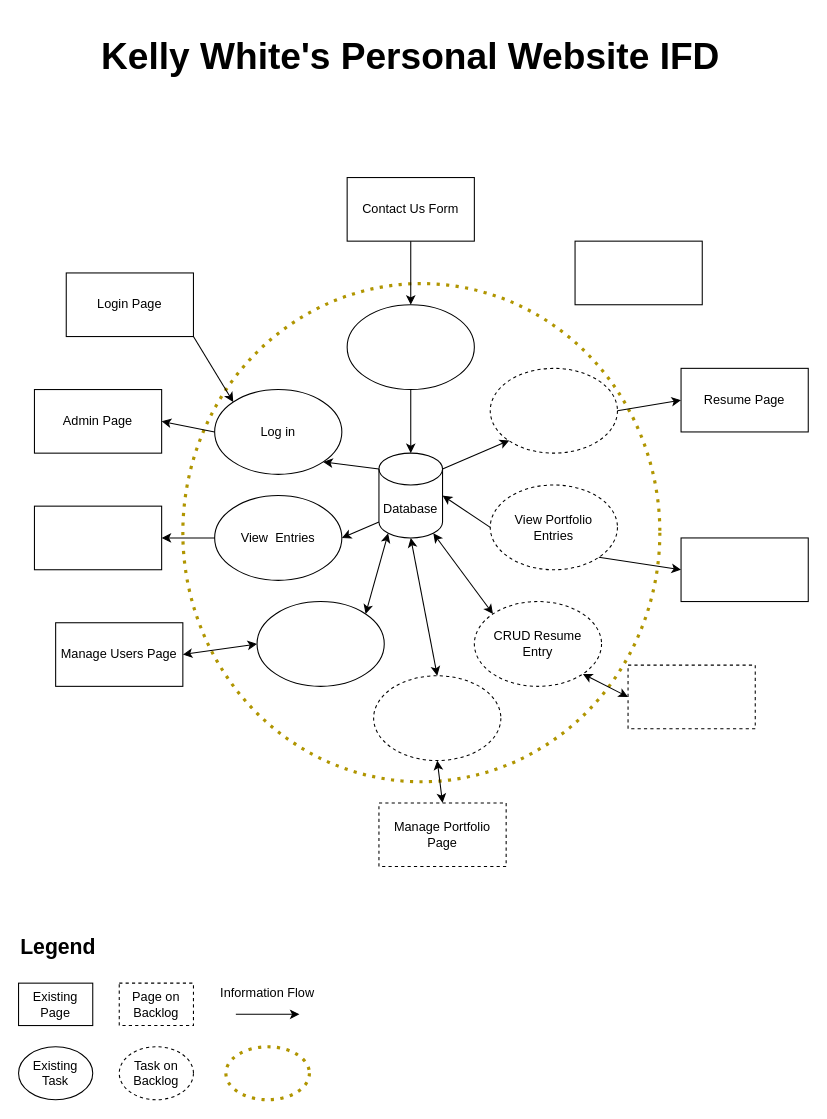
The diagram is 827 pixels wide and 1119 high, and some of its shapes have lost their labels. Here are the shapes that lost their labels. From the top down, the centre of each, then its label:
At (638,272): "Home Page".
At (410,347): "Submit contact information and message".
At (553,410): "View Resume Entries".
At (97,537): "Manage Contact Form Entries Page".
At (744,569): "Portfolio Page".
At (320,643): "CRUD User".
At (691,696): "Manage Resume Page".
At (437,718): "CRUD Portfolio Entry".
